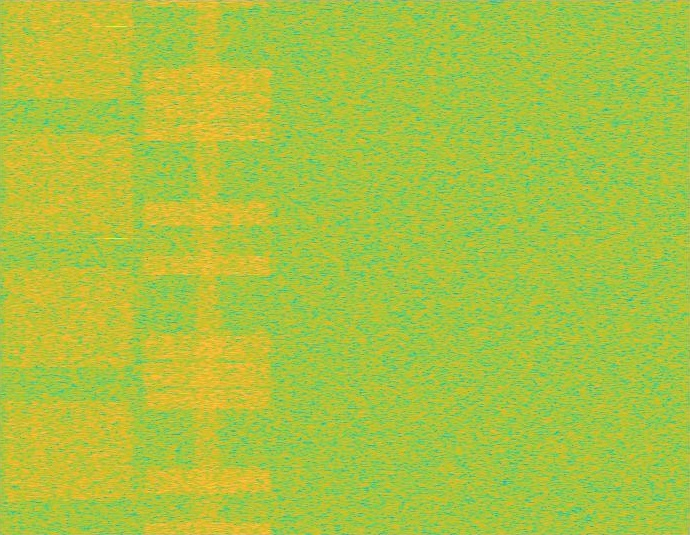5G: (0, 0, 138, 534)
DSSS: (191, 0, 223, 534)
LTE: (138, 0, 276, 534)
Radar: (109, 0, 123, 534)
